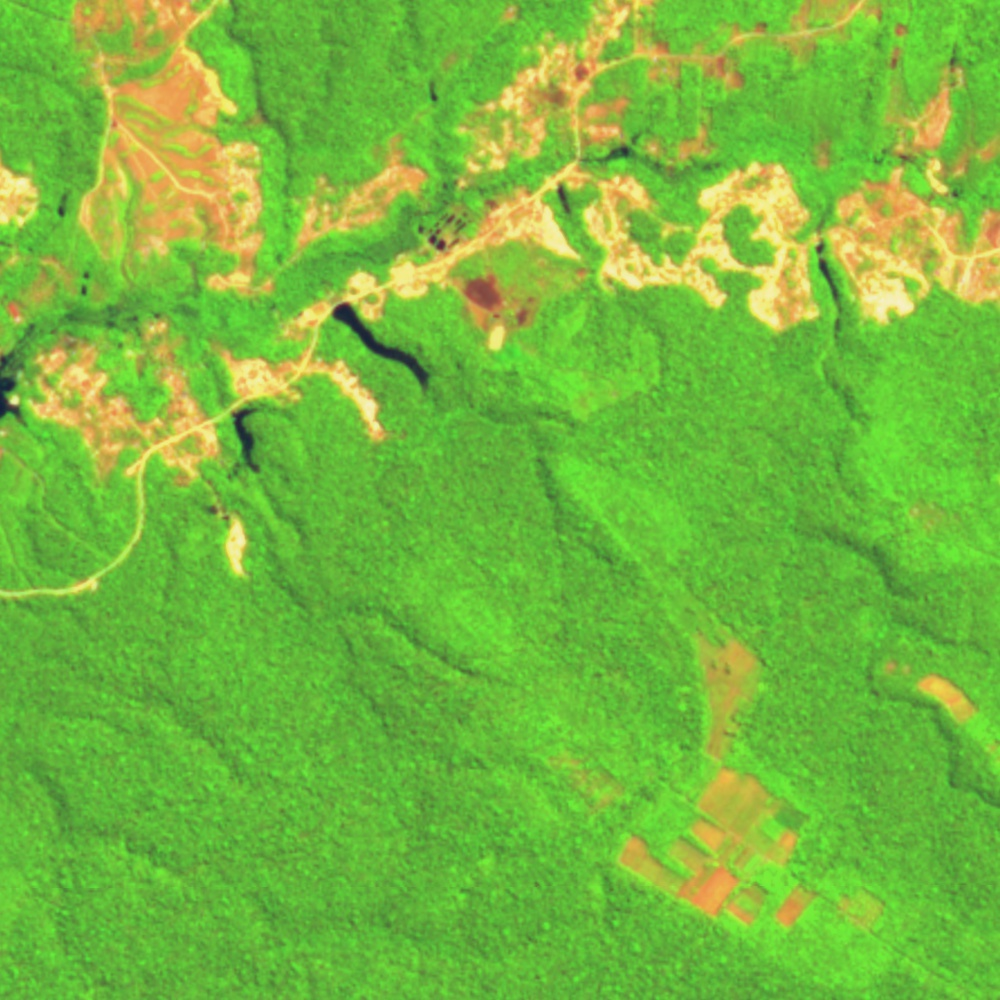legal: (279, 185, 585, 399), (70, 1, 271, 299), (823, 25, 1000, 335), (618, 761, 886, 936), (1, 304, 229, 492), (573, 162, 820, 334), (448, 1, 662, 190), (658, 1, 891, 164), (205, 343, 391, 469), (289, 132, 430, 257), (881, 650, 1000, 777), (681, 620, 771, 767), (1, 161, 73, 328), (195, 471, 257, 586), (539, 752, 636, 818)
